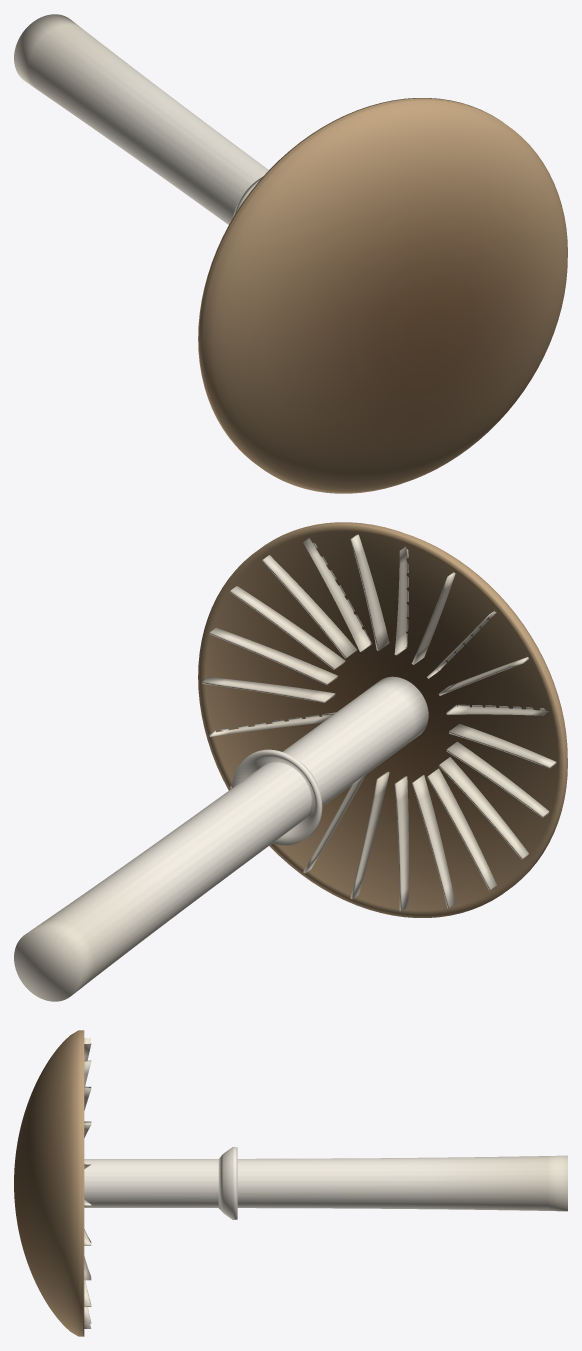
File: cyclocybe-aegerita.glb
The picture shows the model from 3 angles, top to bottom: view 1: azimuth 30°, elevation 25°; view 2: azimuth 150°, elevation 25°; view 3: azimuth 270°, elevation 25°; orthographic projection. The views are drawn at different scales.
Parts seen in each view (by area): view 1: pileus_cap, stipe_stem; view 2: pileus_cap, stipe_stem, lamellae_gills, annulus_ring; view 3: stipe_stem, pileus_cap, annulus_ring, lamellae_gills.
Part boxes in pixels (left/top/right/bottom): pileus_cap: left=198, top=98, right=567, bottom=493; stipe_stem: left=14, top=14, right=268, bottom=224; pileus_cap: left=198, top=522, right=567, bottom=917; stipe_stem: left=14, top=676, right=428, bottom=1001; lamellae_gills: left=202, top=534, right=556, bottom=911; annulus_ring: left=232, top=749, right=322, bottom=845; stipe_stem: left=84, top=1155, right=567, bottom=1211; pileus_cap: left=14, top=1030, right=84, bottom=1336; annulus_ring: left=218, top=1147, right=237, bottom=1219; lamellae_gills: left=84, top=1038, right=91, bottom=1328.
Bounding box in the file's own units: 2 × 2 × 3.62.
